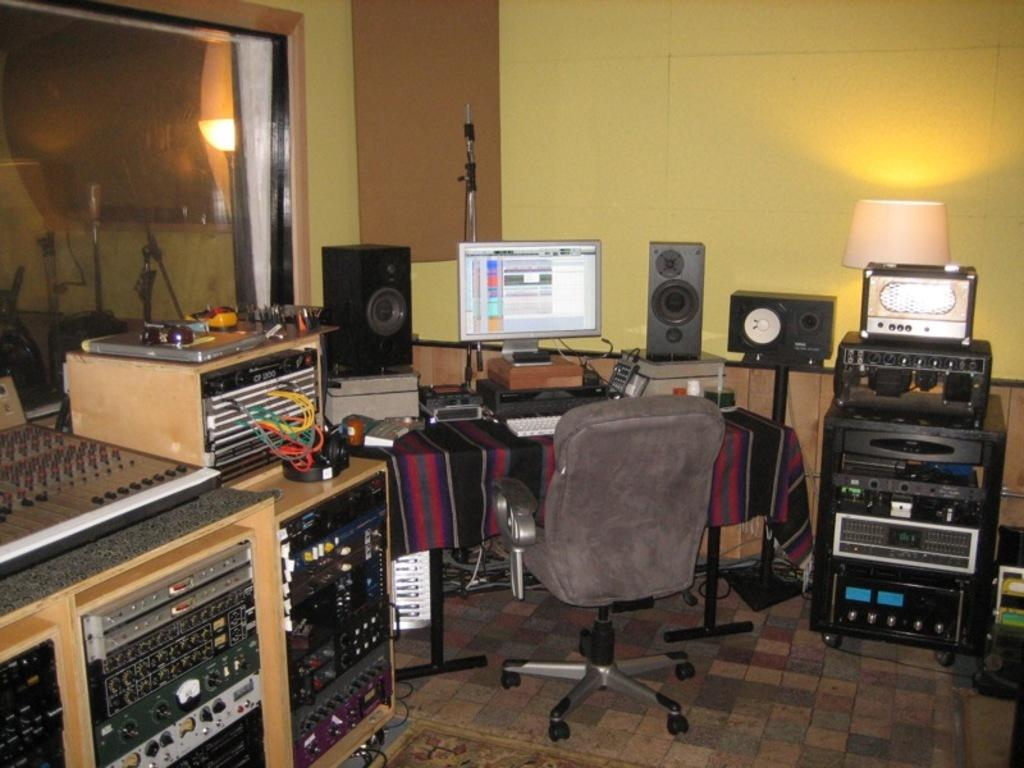Chair: (474, 355, 690, 756)
